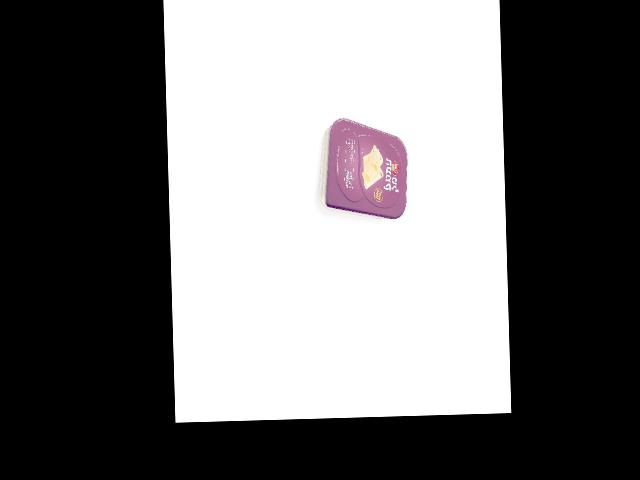cheese: (317, 115, 409, 221)
